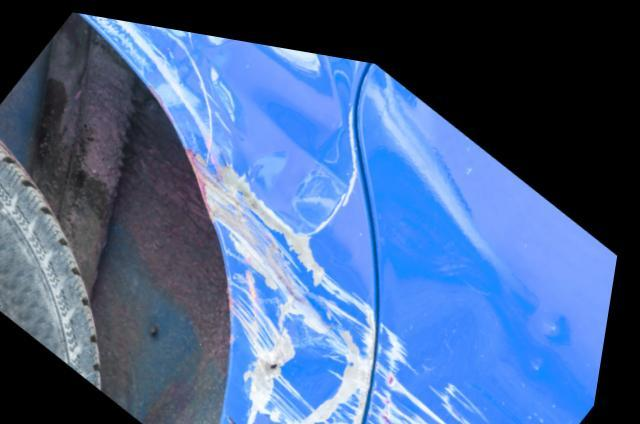dent: (73, 10, 359, 220)
rub: (186, 136, 387, 424), (372, 307, 534, 424)
